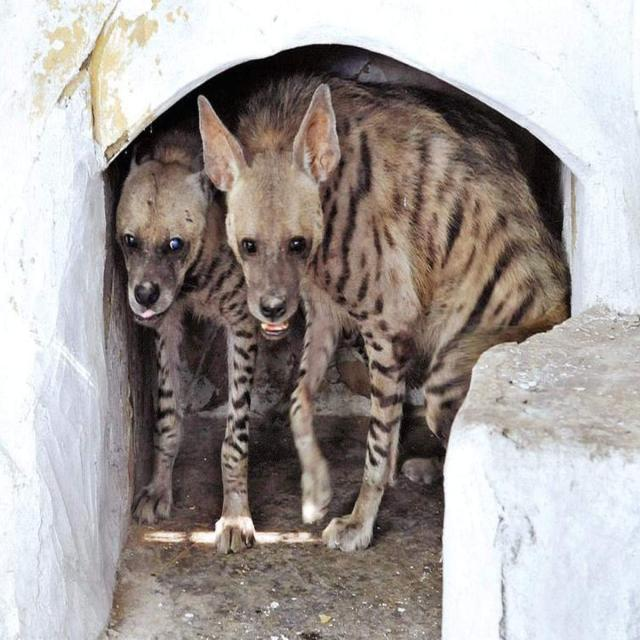Hyena: (191, 85, 573, 522), (117, 162, 241, 558)
